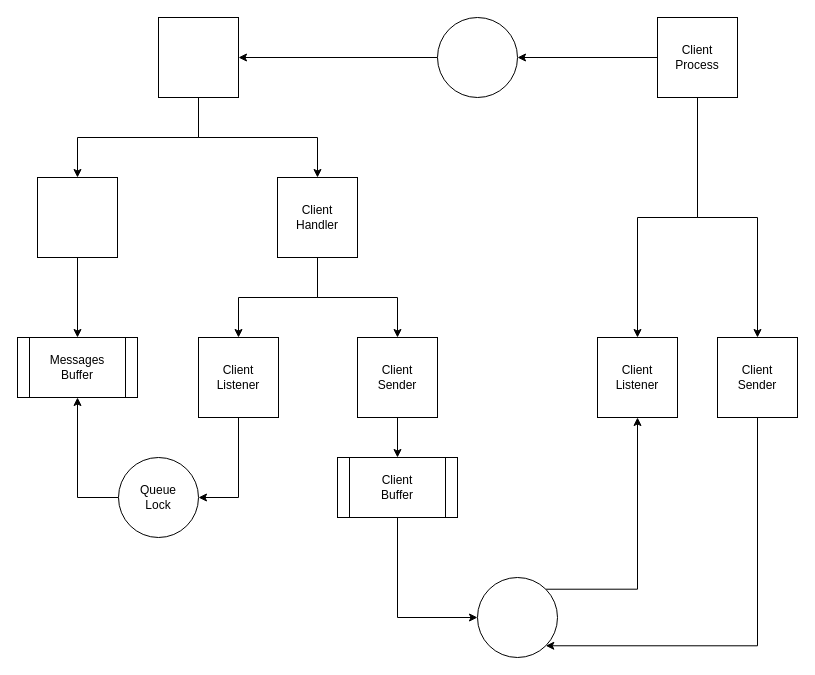
Some shapes in this 815 by 675 pixel diagram are drawn without their labels. Here are the shapes that lost their labels. From the top down, the centre of each, then its label:
(x=198, y=57): Server Process
(x=477, y=57): Server Socket
(x=77, y=217): Monitor Thread
(x=517, y=617): Client Socket
